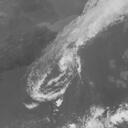cyclone: (25, 38, 83, 102)
